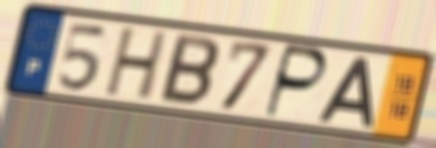5: (55, 21, 112, 93)
7: (221, 37, 278, 114)
A: (315, 54, 376, 130)
B: (156, 31, 222, 109)
H: (101, 25, 171, 104)
P: (261, 41, 330, 122)
